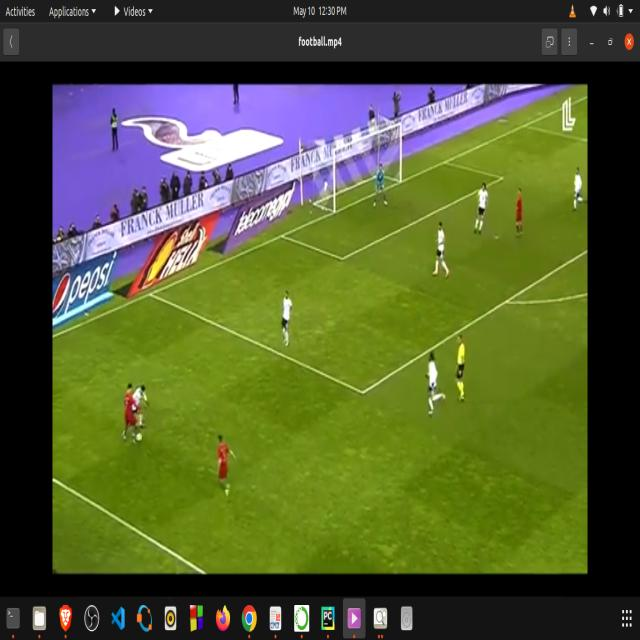Ball: (136, 429, 146, 448)
Goalkeeper: (371, 157, 389, 212)
Refree: (452, 331, 470, 412)
football-players: (422, 348, 450, 420), (215, 428, 237, 501), (432, 218, 450, 284), (472, 176, 492, 234), (279, 288, 296, 351), (121, 378, 138, 437), (571, 161, 585, 216), (514, 181, 526, 240), (134, 379, 148, 429)
